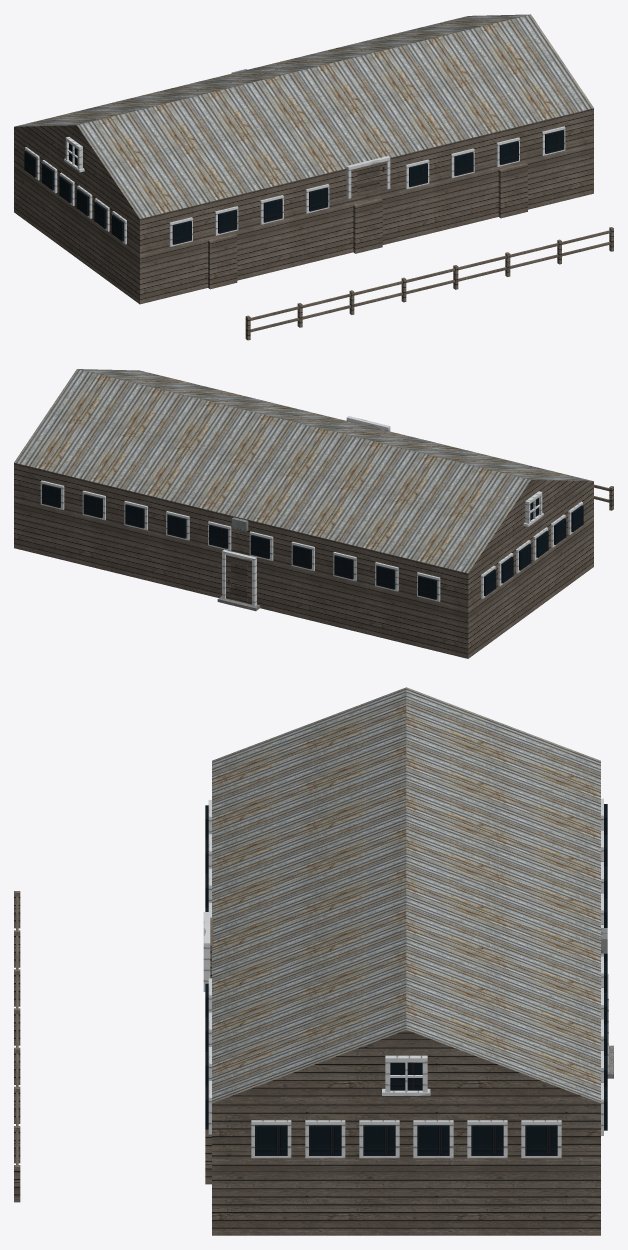
Rendered from horse-stable_lod0.gltf.
3 views of the same model, one above another, from view 1: azimuth 30°, elevation 25°; view 2: azimuth 150°, elevation 25°; view 3: azimuth 270°, elevation 25° (orthographic). The views are drawn at different scales.
Visible parts, largest first — view 1: horse-stable_roof, horse-stable_walls, horse-stable_fen_07-glass-curtain-blue_1_t, horse-stable_fen_20-white-clapboard_0, horse-stable__paddock_fence, horse-stable_gable_ends, horse-stable__dutch_door_b, horse-stable__dutch_door_a, horse-stable__dutch_door_c, horse-stable_fen_18-timber-siding_2; view 2: horse-stable_roof, horse-stable_walls, horse-stable_fen_07-glass-curtain-blue_1_t, horse-stable_fen_20-white-clapboard_0, horse-stable_gable_ends, horse-stable_fen_18-timber-siding_2, horse-stable_fen_18-timber-siding_3_t; view 3: horse-stable_roof, horse-stable_walls, horse-stable_gable_ends, horse-stable_fen_07-glass-curtain-blue_1_t, horse-stable_fen_20-white-clapboard_0, horse-stable__paddock_fence.
Part boxes in pixels (bbox=[...]): horse-stable_roof: bbox=[15, 14, 593, 218]; horse-stable_walls: bbox=[14, 108, 593, 304]; horse-stable_fen_07-glass-curtain-blue_1_t: bbox=[24, 130, 564, 244]; horse-stable_fen_20-white-clapboard_0: bbox=[25, 126, 565, 246]; horse-stable__paddock_fence: bbox=[245, 227, 613, 340]; horse-stable_gable_ends: bbox=[14, 125, 139, 218]; horse-stable__dutch_door_b: bbox=[353, 198, 382, 253]; horse-stable__dutch_door_a: bbox=[208, 233, 237, 289]; horse-stable__dutch_door_c: bbox=[498, 162, 527, 218]; horse-stable_fen_18-timber-siding_2: bbox=[351, 161, 386, 197]; horse-stable_roof: bbox=[14, 369, 593, 573]; horse-stable_walls: bbox=[14, 462, 593, 658]; horse-stable_fen_07-glass-curtain-blue_1_t: bbox=[42, 484, 583, 599]; horse-stable_fen_20-white-clapboard_0: bbox=[40, 416, 582, 606]; horse-stable_gable_ends: bbox=[468, 480, 593, 572]; horse-stable_fen_18-timber-siding_2: bbox=[226, 420, 385, 604]; horse-stable_fen_18-timber-siding_3_t: bbox=[231, 562, 247, 601]; horse-stable_roof: bbox=[212, 687, 600, 1103]; horse-stable_walls: bbox=[212, 1103, 600, 1235]; horse-stable_gable_ends: bbox=[213, 1030, 599, 1103]; horse-stable_fen_07-glass-curtain-blue_1_t: bbox=[205, 804, 607, 1155]; horse-stable_fen_20-white-clapboard_0: bbox=[203, 798, 608, 1158]; horse-stable__paddock_fence: bbox=[14, 891, 20, 1202].
Bounding box in the file's own units: 25.55 × 7.02 × 18.5.
